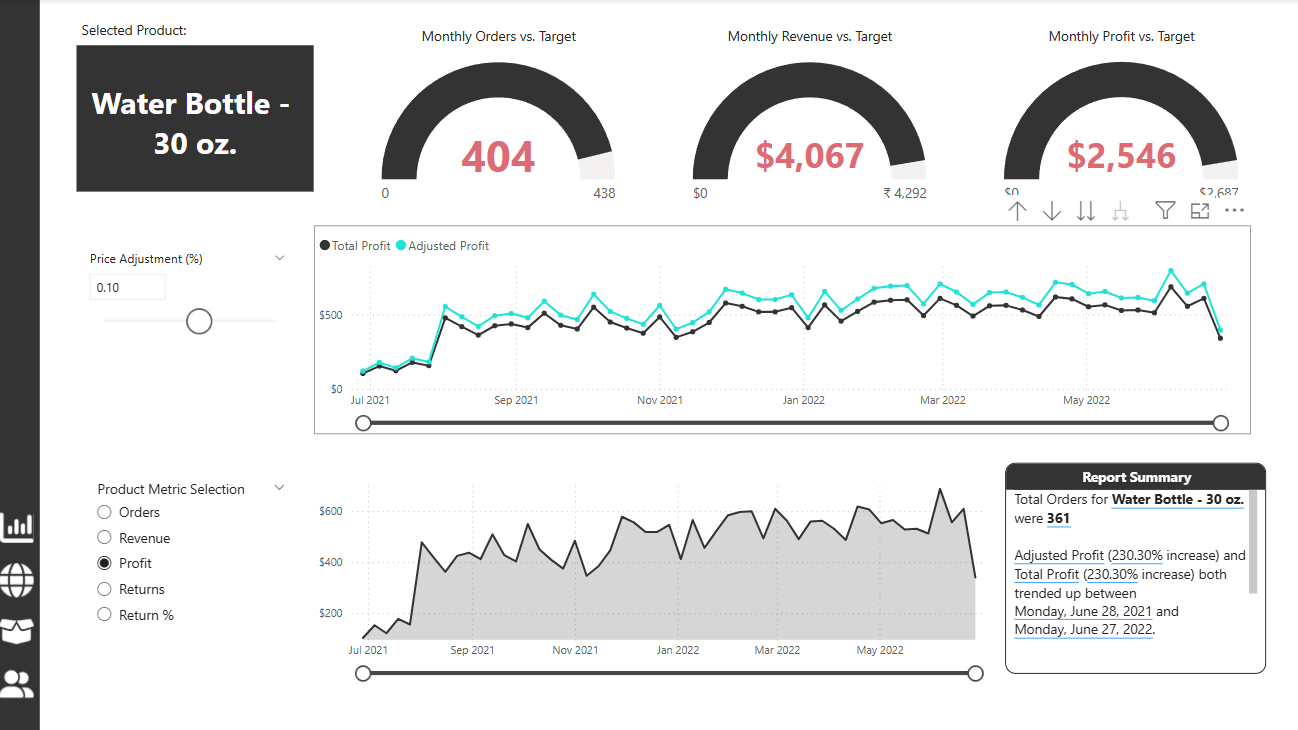

The dashboard page shown, as its layout file describes it:
{"tool":"powerbi","page":{"name":"Product Detail","canvas":[1280,720],"ordinal":2},"visuals":[{"type":"shape","box":[0,0,45,720.2],"z":0},{"type":"actionButton","box":[0.9,496.5,45.2,41.6],"z":1000,"group":"g1"},{"type":"gauge","title":"Monthly Orders vs. Target","fields":{"Y":["Measure Table.Total Orders"],"MaxValue":["Measure Table.Order Target"]},"box":[374,26.9,238.9,194.8],"z":1000},{"type":"gauge","title":"Monthly Revenue vs. Target","fields":{"Y":["Measure Table.Total Revenue"],"MaxValue":["Measure Table.Revenue Target"]},"box":[678.6,26.9,238.9,194.8],"z":2000},{"type":"actionButton","box":[0.9,598.4,45.2,41.6],"z":2000,"group":"g1"},{"type":"gauge","title":"Monthly Profit vs. Target","fields":{"Y":["Measure Table.Total Profit"],"MaxValue":["Measure Table.Profit Target"]},"box":[983.2,26.9,239.7,194.4],"z":3000},{"type":"actionButton","box":[0.9,649.4,45.2,41.6],"z":3000,"group":"g1"},{"type":"actionButton","box":[0.9,547.5,45.2,41.6],"z":4000,"group":"g1"},{"type":"lineChart","title":"Profit Trending","fields":{"Category":["Calendar Lookup.Date Hierarchy.Start of Year","Calendar Lookup.Date Hierarchy.Start of Month","Calendar Lookup.Date Hierarchy.Start of Week","Calendar Lookup.Date Hierarchy.Date"],"Y":["Measure Table.Total Profit","Measure Table.Adjusted Profit"]},"box":[313,221.3,915.9,204.2],"z":4000},{"type":"areaChart","title":"Return Trending","fields":{"Y":["Measure Table.Total Profit"],"Category":["Calendar Lookup.Date Hierarchy.Start of Year","Calendar Lookup.Date Hierarchy.Start of Month","Calendar Lookup.Date Hierarchy.Start of Week","Calendar Lookup.Date Hierarchy.Date"]},"box":[313,462.2,676.2,207.9],"z":5000},{"type":"card","fields":{"Values":["Min(Product Lookup.ProductName)"]},"box":[80.7,45.2,232.3,143.1],"z":6000},{"type":"textbox","box":[80.7,15.9,138.2,29.3],"z":7000},{"type":"group","id":"g1","title":"Navigation Buttons","box":[0.9,496.5,45.2,194.4],"z":8000},{"type":"slicer","fields":{"Values":["Price Adjustment (%).Price Adjustment (%)"]},"box":[80.7,240.9,216.4,138.2],"z":9000},{"type":"slicer","fields":{"Values":["Product Metric Selection.Product Metric Selection"]},"box":[88,464.7,209.1,183.4],"z":10000},{"type":"textbox","title":"Report Summary","box":[989.3,453.7,255.6,206.7],"z":11000}]}

Visuals, with their boxes on the page's 1280x720 design canvas (x1, y1, x2, y2). These are canvas units, not pixel positions in the 1298x730 screenshot, which may show the page scaled, cropped or inside an application window:
shape: rect(0, 0, 45, 720)
actionButton: rect(1, 496, 46, 538)
"Monthly Orders vs. Target" gauge: rect(374, 27, 613, 222)
"Monthly Revenue vs. Target" gauge: rect(679, 27, 918, 222)
actionButton: rect(1, 598, 46, 640)
"Monthly Profit vs. Target" gauge: rect(983, 27, 1223, 221)
actionButton: rect(1, 649, 46, 691)
actionButton: rect(1, 548, 46, 589)
"Profit Trending" lineChart: rect(313, 221, 1229, 426)
"Return Trending" areaChart: rect(313, 462, 989, 670)
card - Min(Product Lookup.ProductName): rect(81, 45, 313, 188)
textbox: rect(81, 16, 219, 45)
"Navigation Buttons" group: rect(1, 496, 46, 691)
slicer - Price Adjustment (%).Price Adjustment (%): rect(81, 241, 297, 379)
slicer - Product Metric Selection.Product Metric Selection: rect(88, 465, 297, 648)
"Report Summary" textbox: rect(989, 454, 1245, 660)
